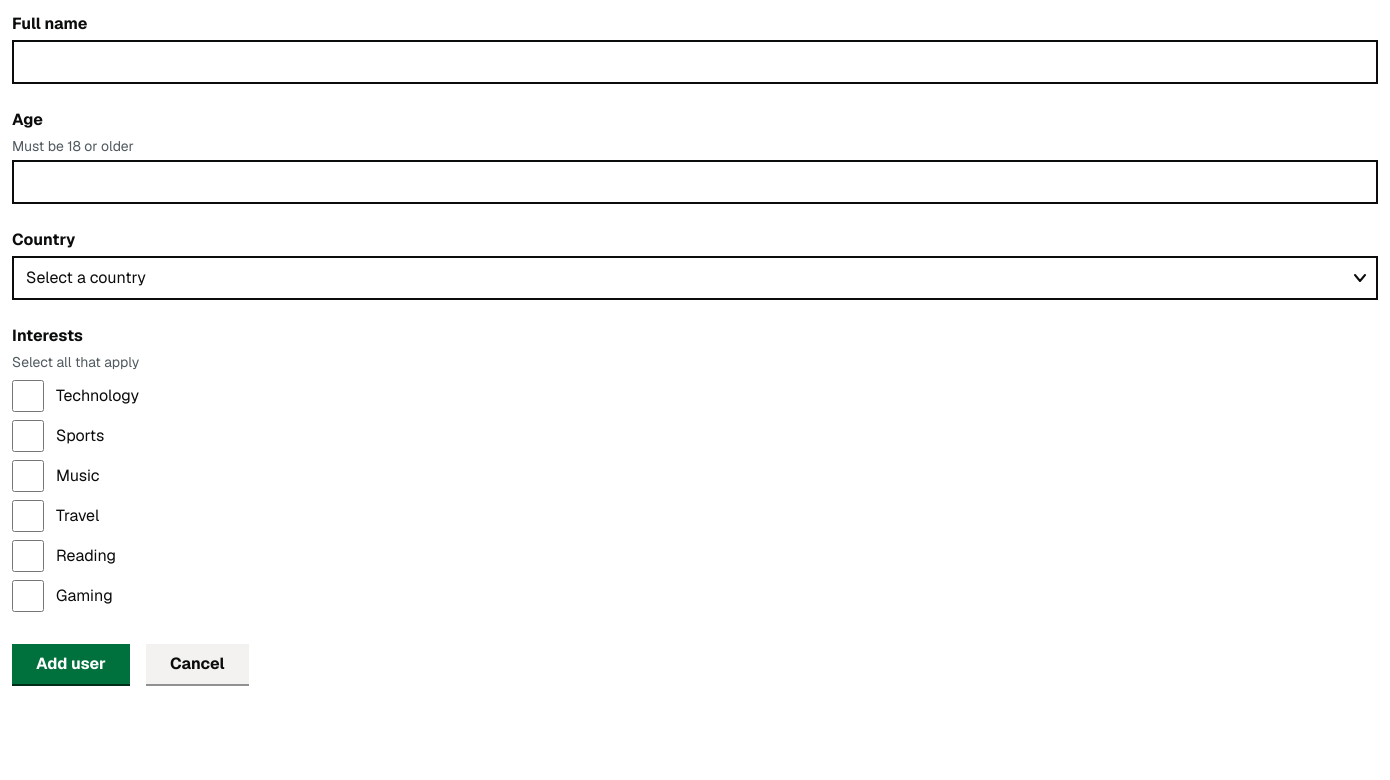
UserForm › failed submission › shows a submit error when the server returns a non-OK response
Step 1. Type "John Doe" into the field labelled "Full name" → (695, 62), box [12,40,1378,84]
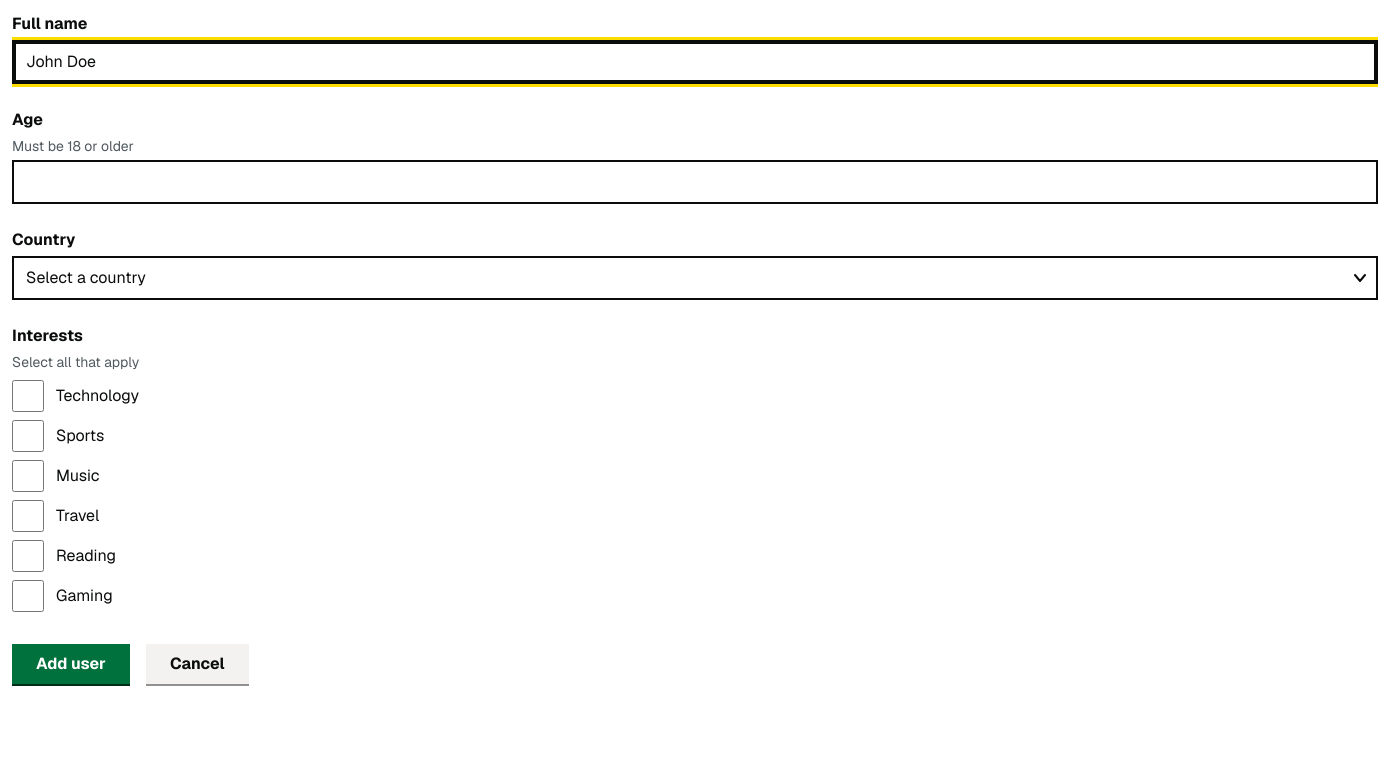
Step 2. Type "25" into the number field labelled "Age" → (695, 182), box [12,160,1378,204]
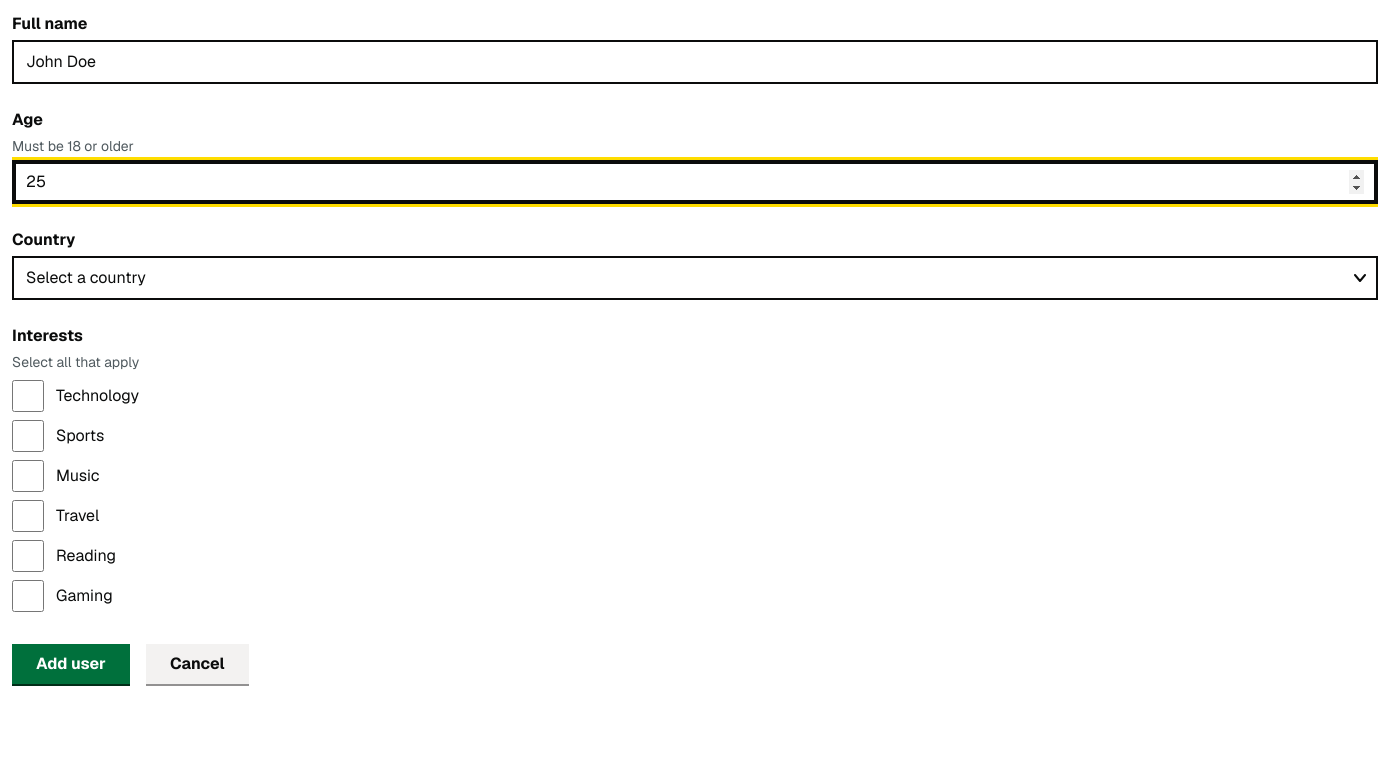
Step 3. Select "United Kingdom" in the dropdown labelled "Country" → (695, 278), box [12,256,1378,300]
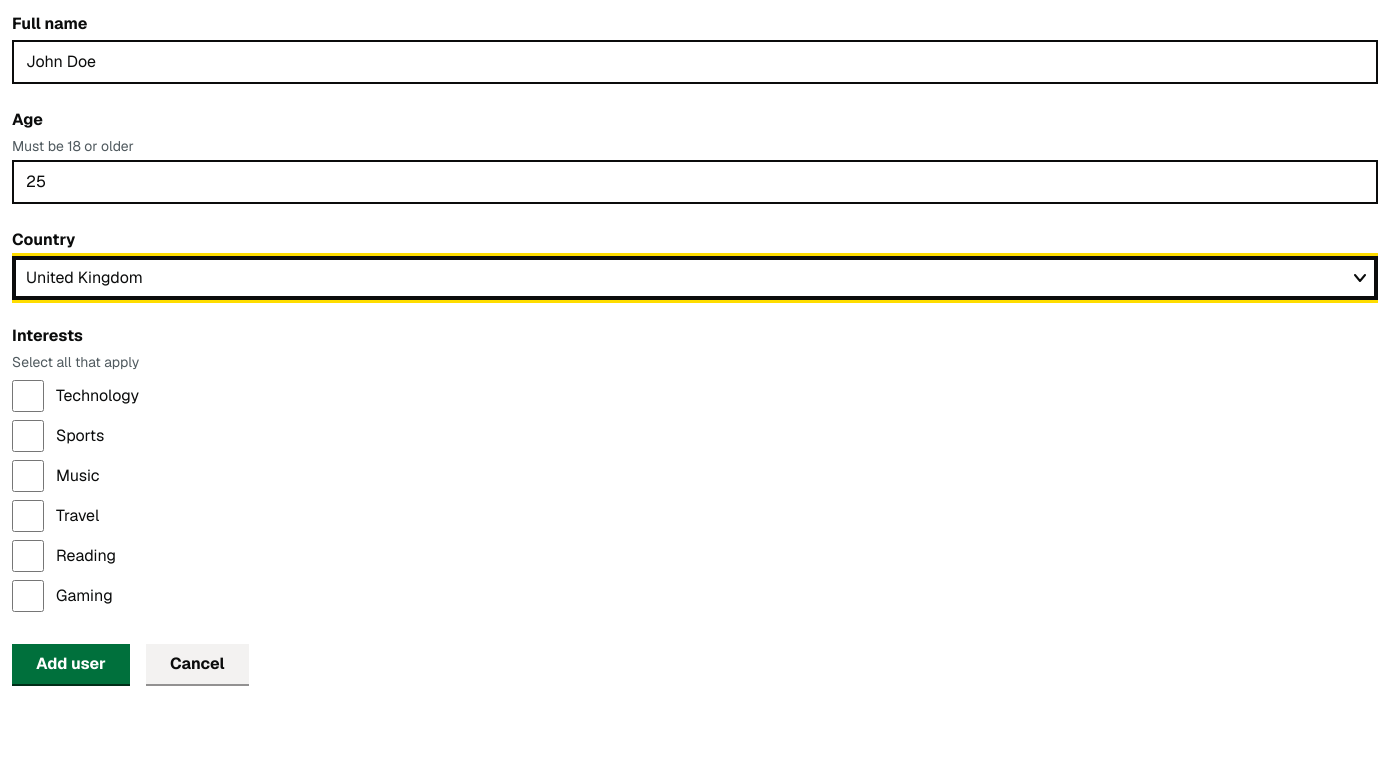
Step 4. Click the checkbox labelled "Technology" → (28, 396), box [12,380,44,412]
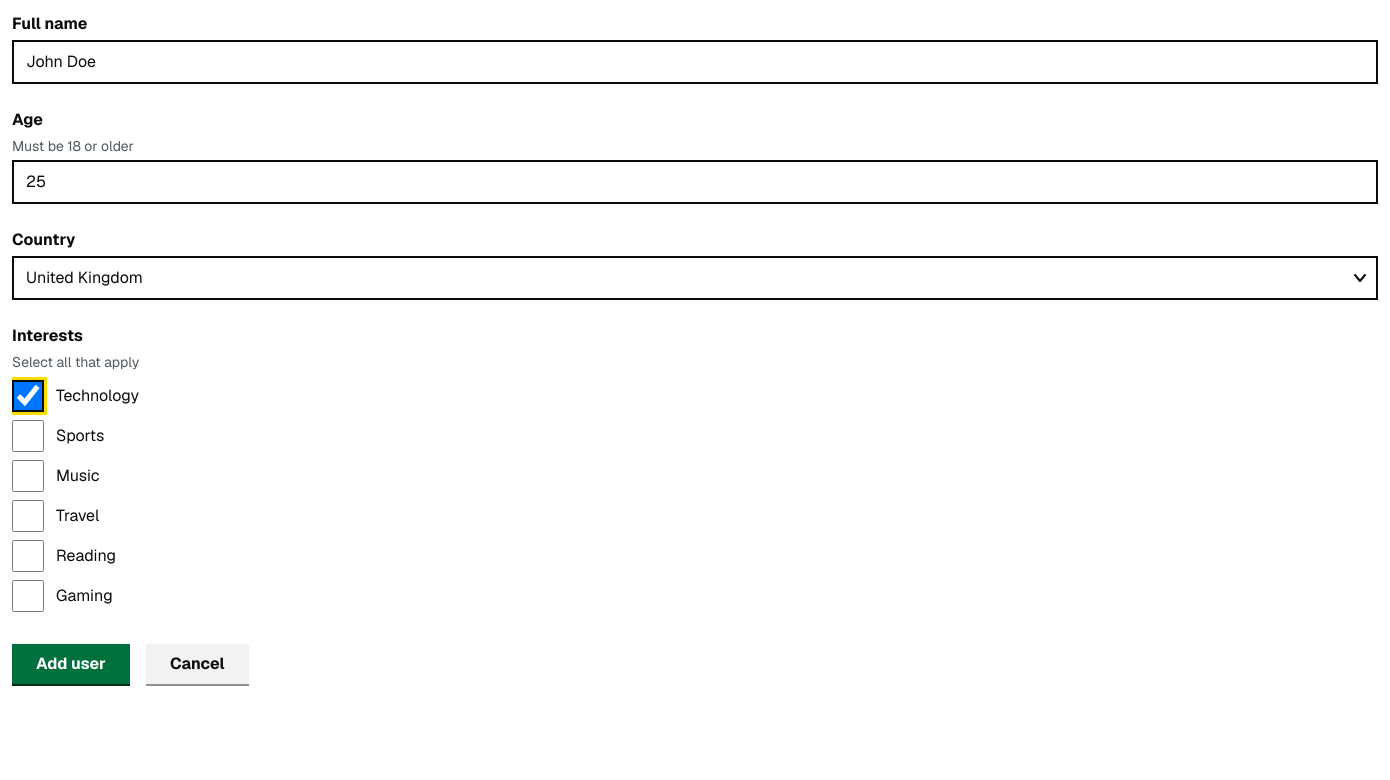
Step 5. Click the button "Add user" → (71, 664), box [12,644,130,684]
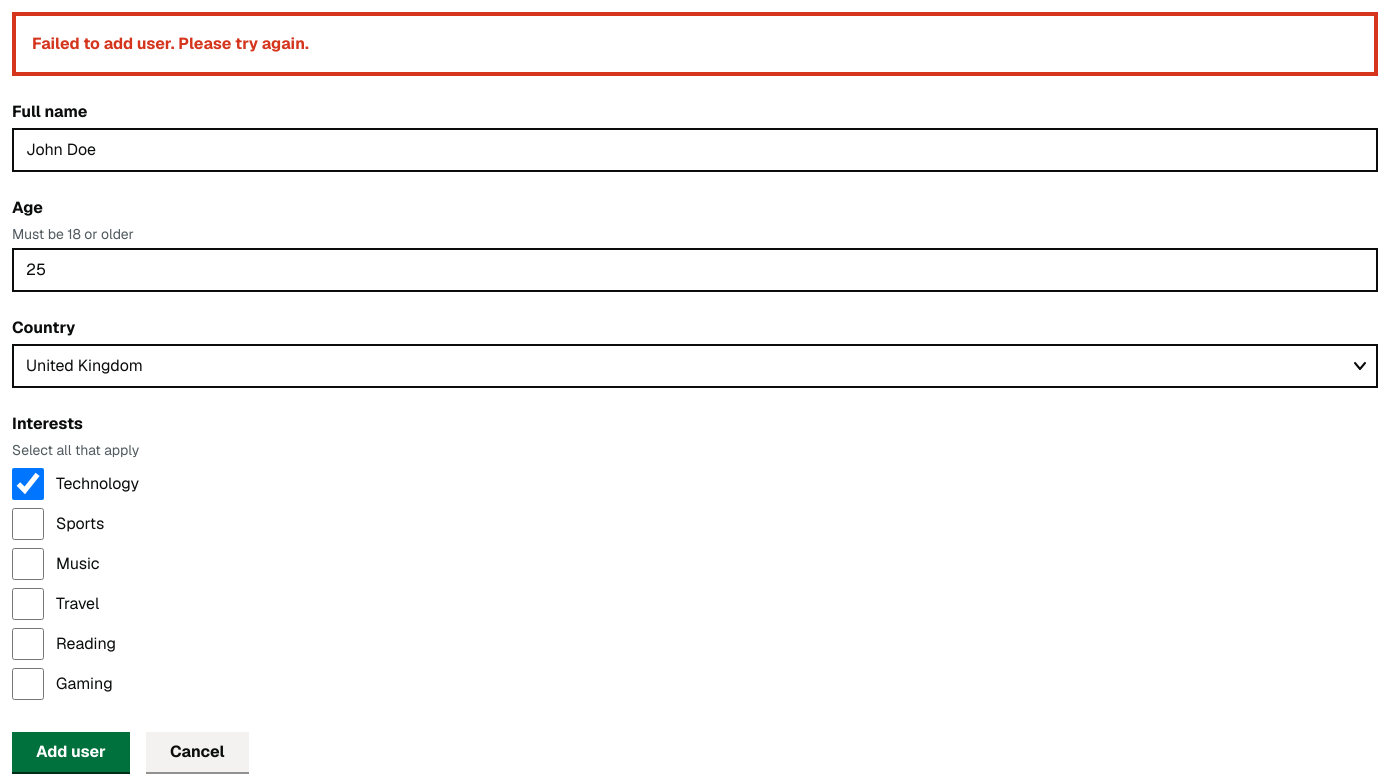
Result: the message reads "Failed to add user. Please try again." at [32,33,309,54]
